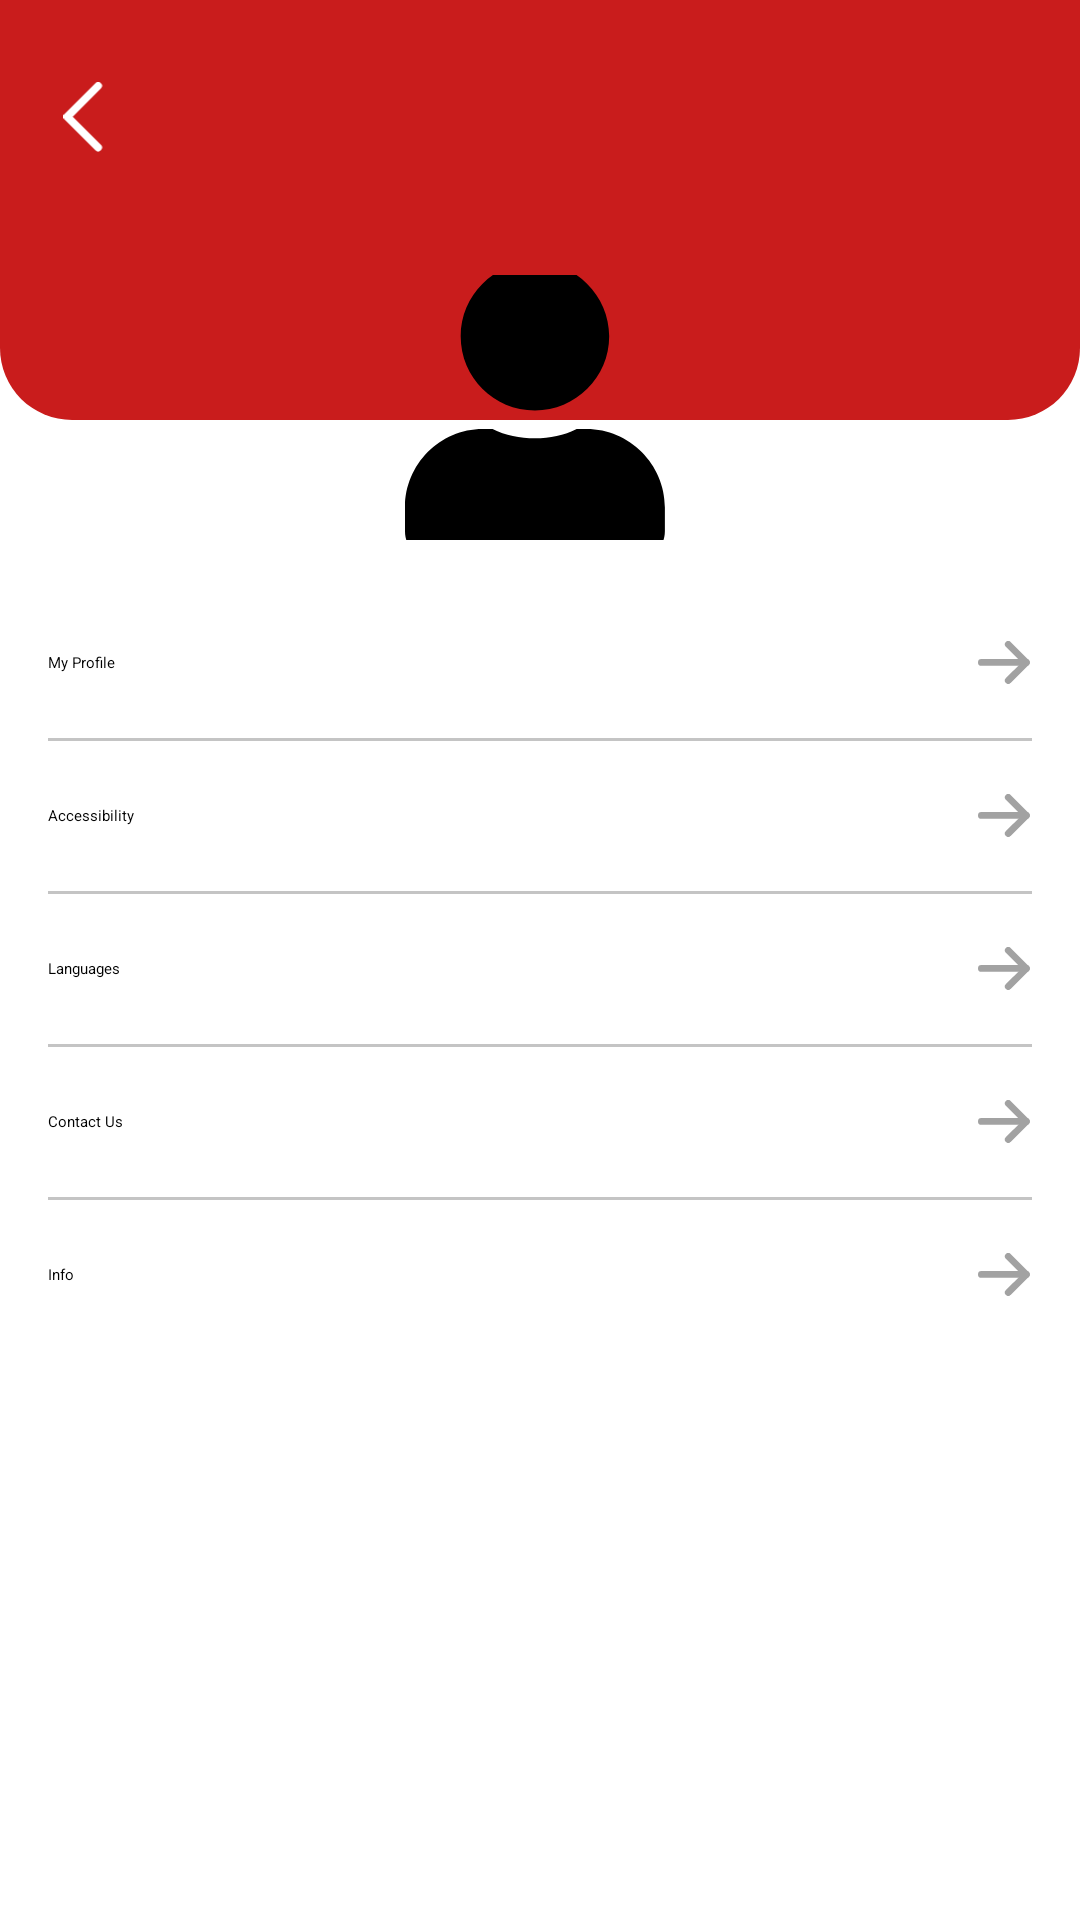

Point at icon controls on the screen. Image size 1080 x 1920, points as point (x, y).
arrow left: point (83, 117)
arrow right: point (1004, 662), point (1004, 815), point (1004, 968), point (1004, 1121), point (1004, 1274)
user: point (540, 407)
